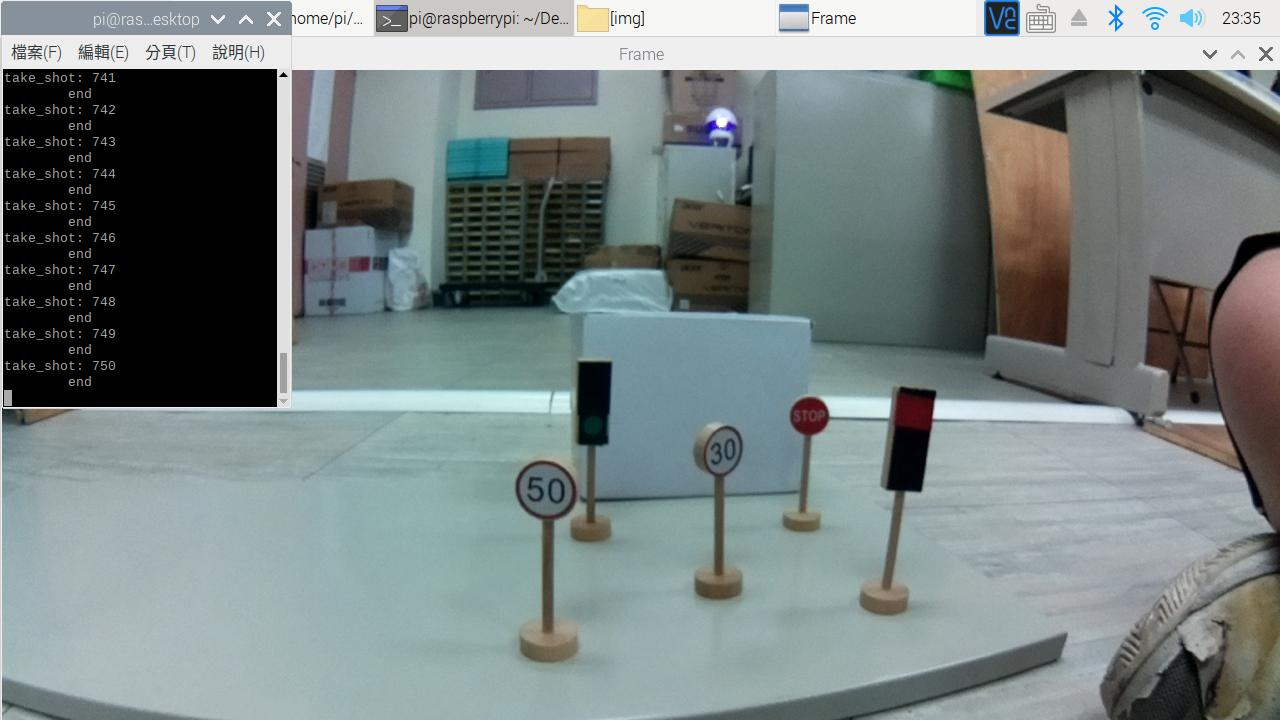Green: (564, 359, 622, 462)
Red: (868, 387, 944, 501)
Speed30: (692, 408, 756, 481)
Speed50: (505, 459, 587, 536)
Stop: (782, 391, 844, 447)
